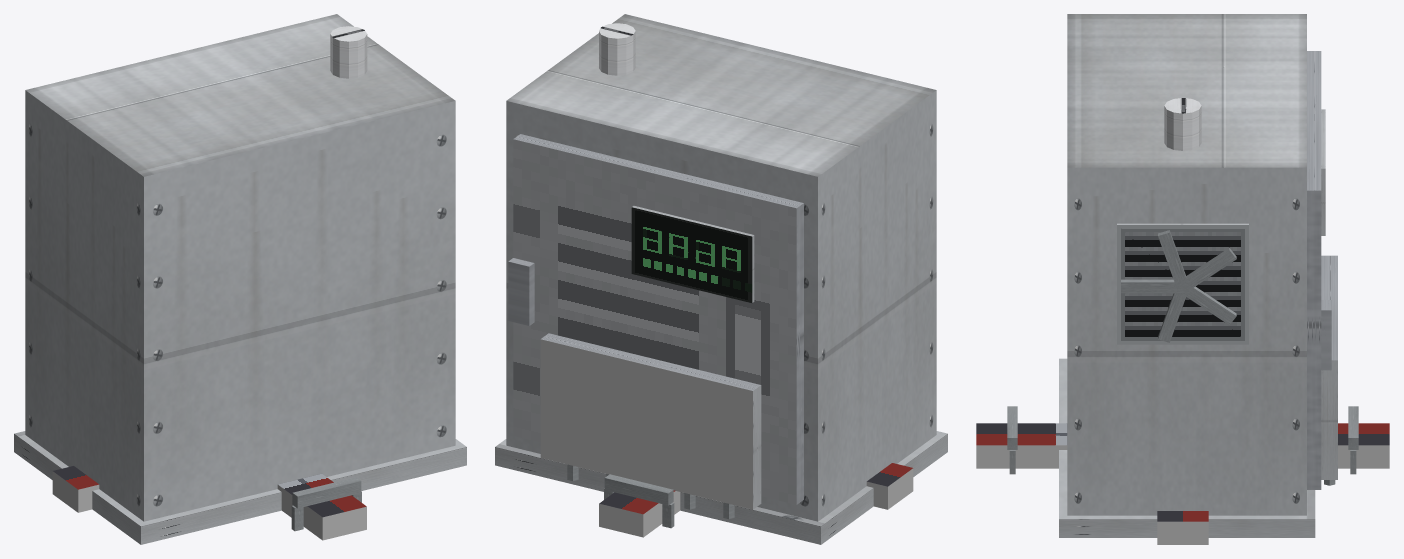
Rendered from pv_inverter.obj.
3 renders of one model, left to right at view 1: azimuth 30°, elevation 25°; view 2: azimuth 150°, elevation 25°; view 3: azimuth 270°, elevation 25°, orthographic.
Visible parts, largest first — view 1: cabinet, entry_south, insulator, entry_west; view 2: cabinet, door, section, display, entry_north, insulator, entry_west; view 3: cabinet, grille, door, entry_south, rotate_fan, section, entry_north, insulator, entry_east, display.
Part boxes in pixels (x1,y1,x2,y2): cabinet: (14, 14, 466, 544); entry_south: (277, 473, 366, 540); insulator: (330, 26, 367, 78); entry_west: (52, 466, 99, 512); cabinet: (495, 14, 947, 544); door: (508, 134, 803, 504); section: (540, 333, 761, 519); display: (631, 206, 754, 302); entry_north: (599, 474, 680, 537); insulator: (599, 23, 635, 75); entry_west: (866, 463, 913, 509); cabinet: (1059, 14, 1315, 537); grille: (1117, 223, 1248, 344); door: (1307, 51, 1331, 489); entry_south: (976, 406, 1067, 474); rotate_fan: (1121, 230, 1236, 342); section: (1321, 255, 1337, 485); entry_north: (1338, 406, 1389, 474); insulator: (1164, 98, 1201, 150); entry_east: (1157, 511, 1208, 544); display: (1321, 109, 1325, 235).
Size of what is drawn, in the model's own units: 1 by 1.08 by 1.
